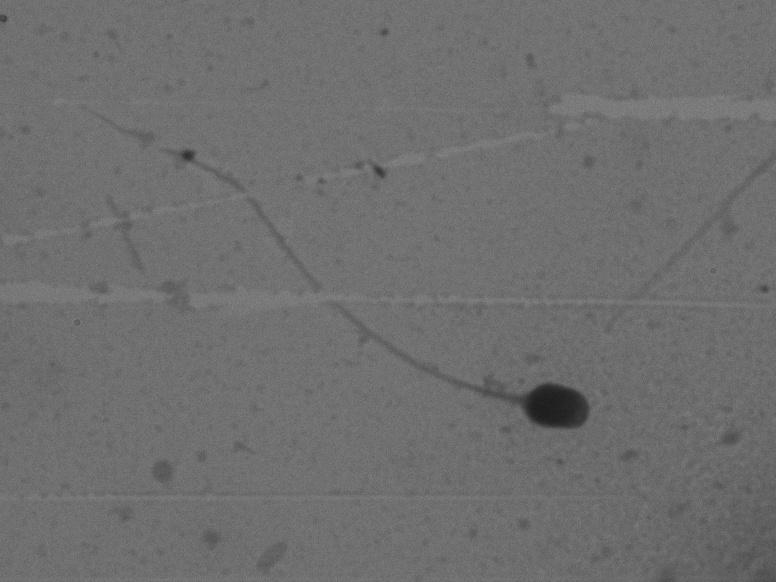Normal: (62, 54, 640, 467)
